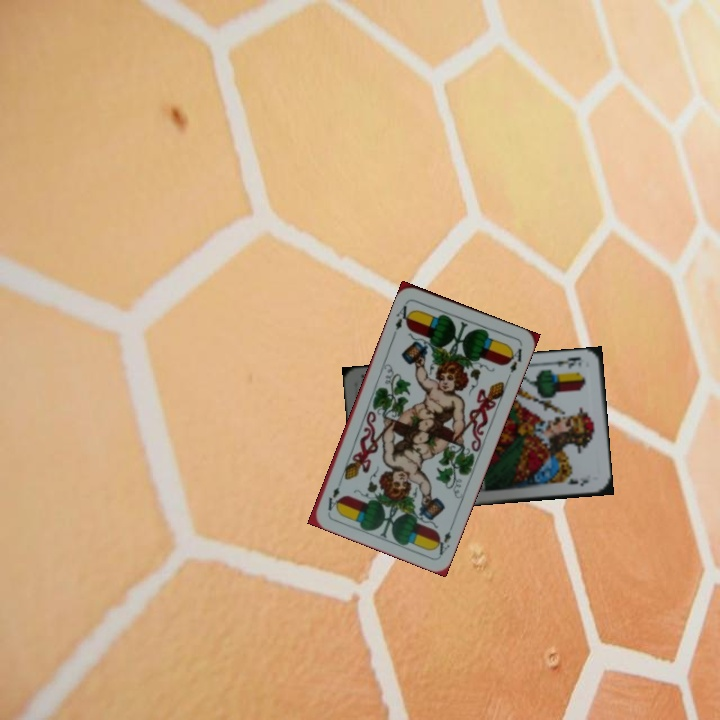EA: (430, 519, 456, 558), (391, 298, 415, 333)
EK: (546, 353, 583, 371)
